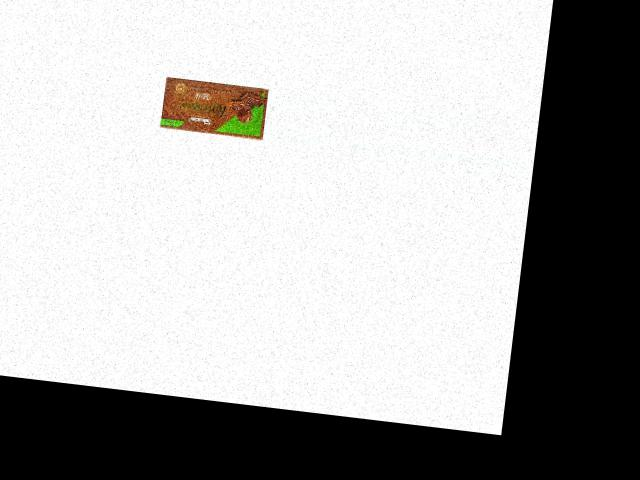chocolate: (156, 74, 270, 144)
